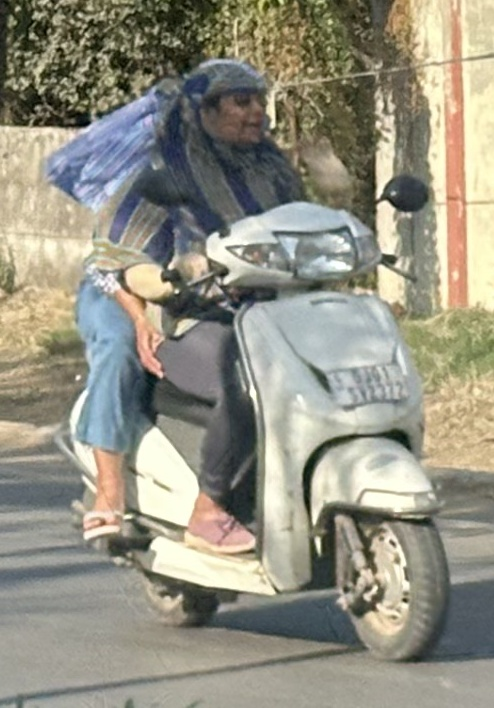BikeWithRider: (40, 55, 462, 661)
NoHelmet: (183, 56, 277, 153)
